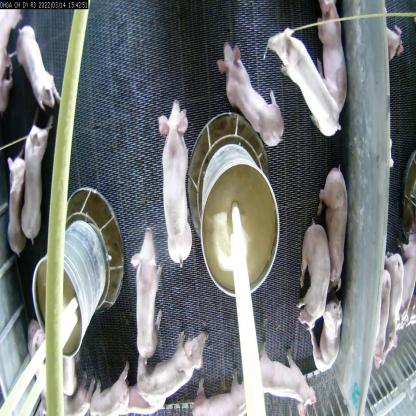Pig: (258, 21, 340, 146), (214, 38, 282, 153), (139, 325, 218, 415), (158, 102, 199, 272), (10, 19, 63, 136), (238, 342, 312, 415), (18, 106, 54, 254), (129, 228, 169, 357), (311, 0, 346, 121), (305, 278, 345, 378), (182, 363, 249, 415), (320, 163, 347, 289), (294, 221, 328, 318), (6, 152, 23, 258)
